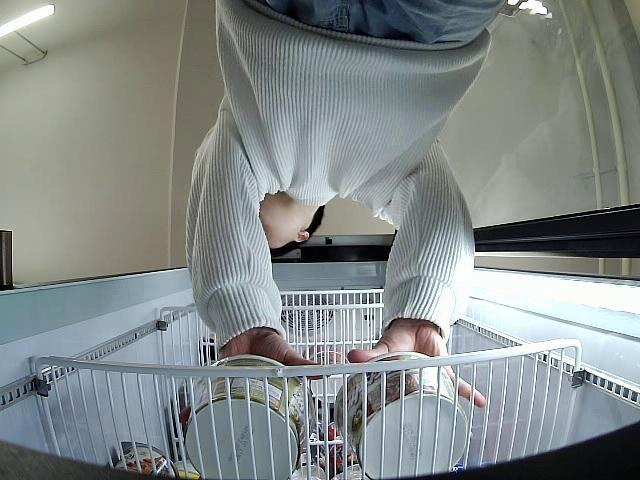03_chapagetti_L: (336, 352, 469, 477), (186, 357, 316, 480)
